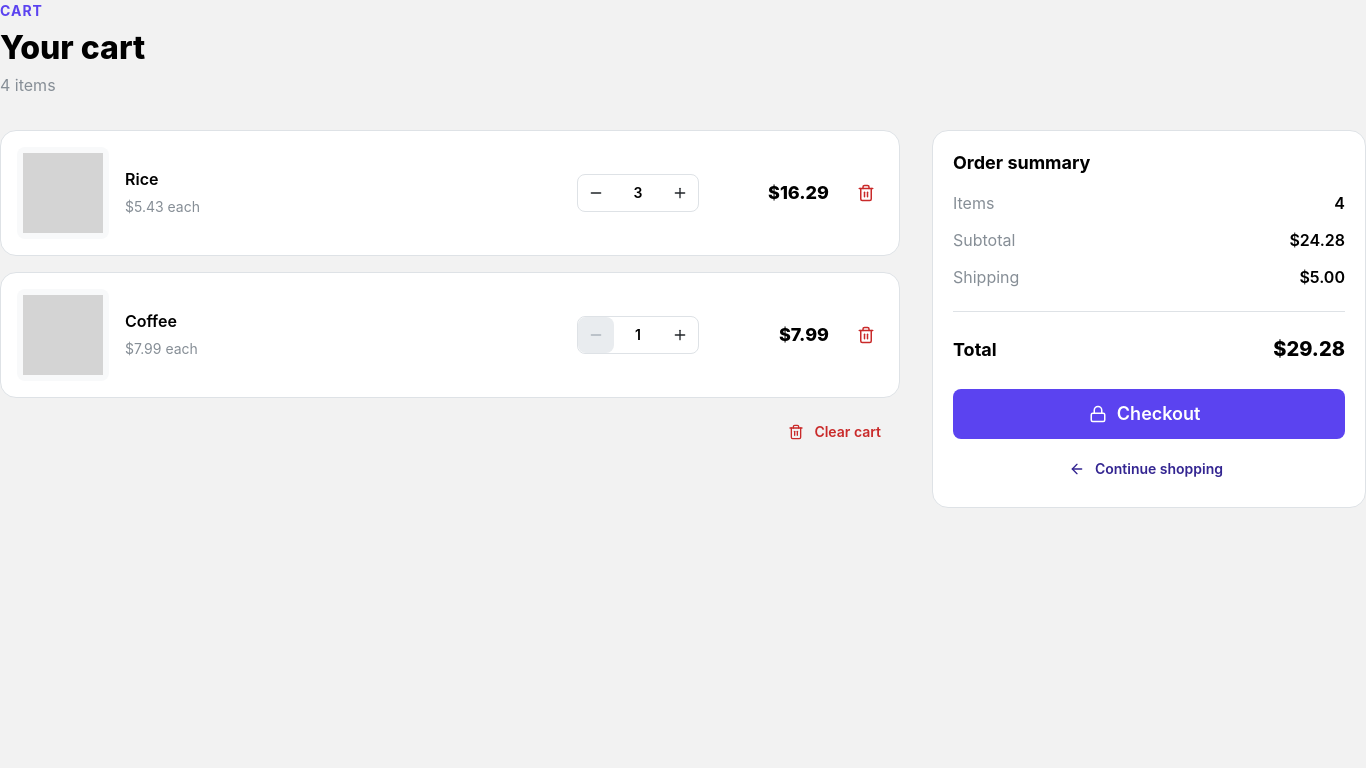
Test: Cart page › checks out: shows the confirmation modal and empties the cart
This screenshot has width=1366, height=768.
Click the button "Checkout": (1149, 414) [953, 389, 1345, 439]
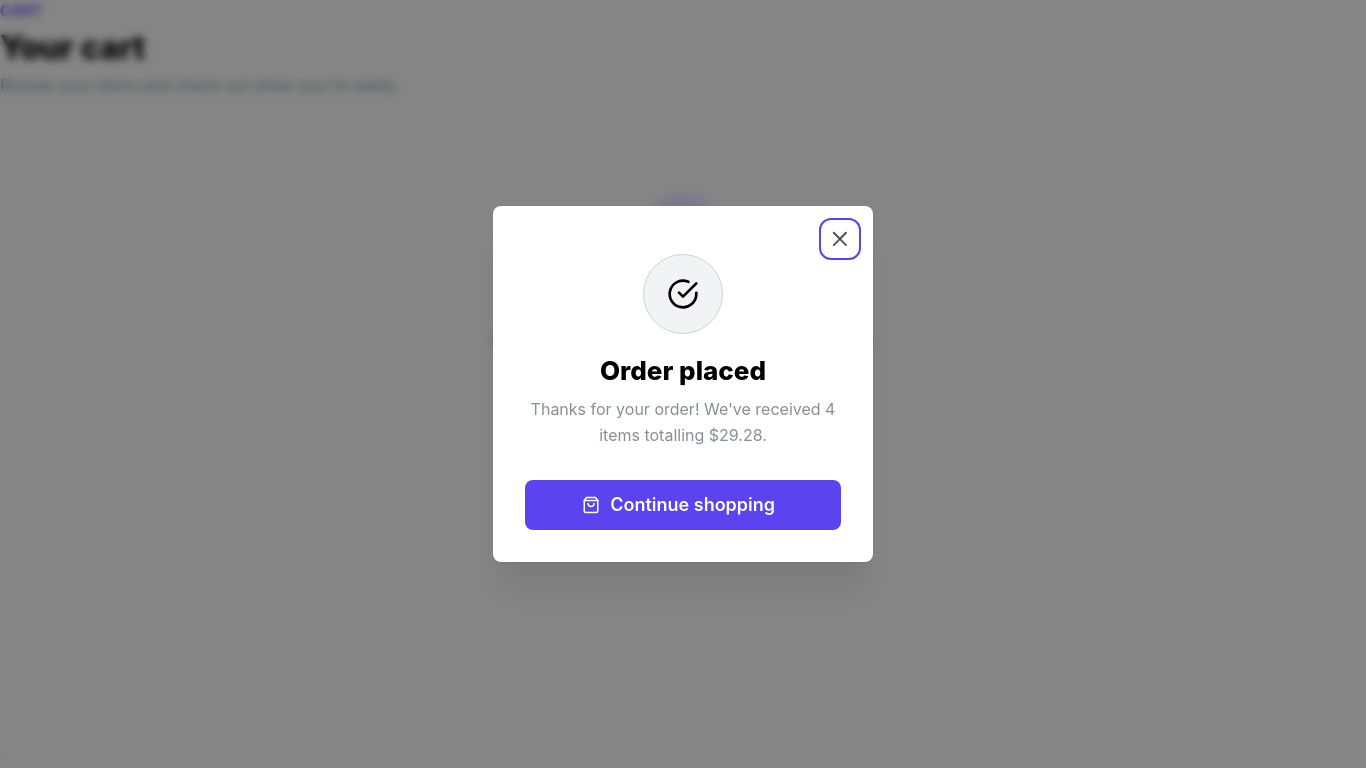
Check: the heading "Order placed" is shown, box [600, 354, 766, 387]
Check: the text "4 items totalling $29.28" is shown, box [531, 399, 835, 445]
